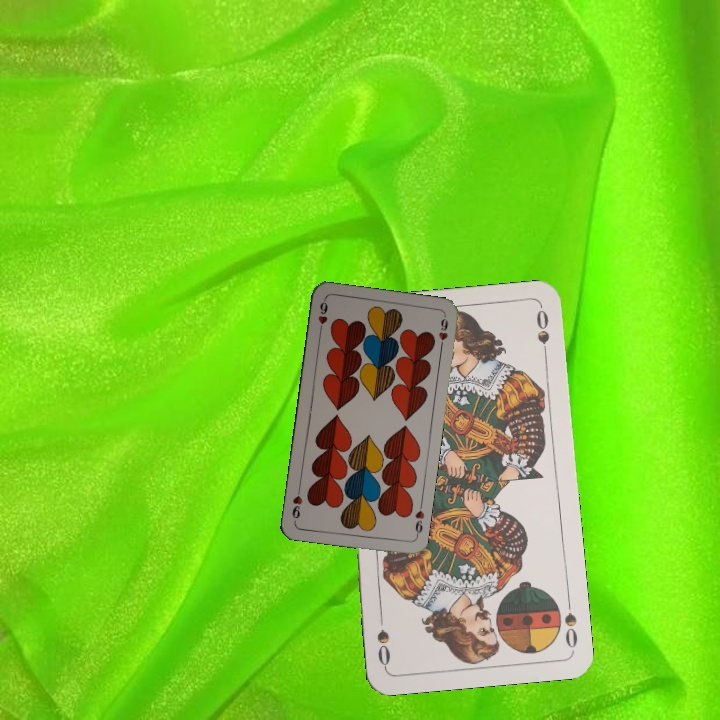H9: (314, 296, 330, 337), (411, 500, 427, 540)
SO: (561, 593, 580, 651)
